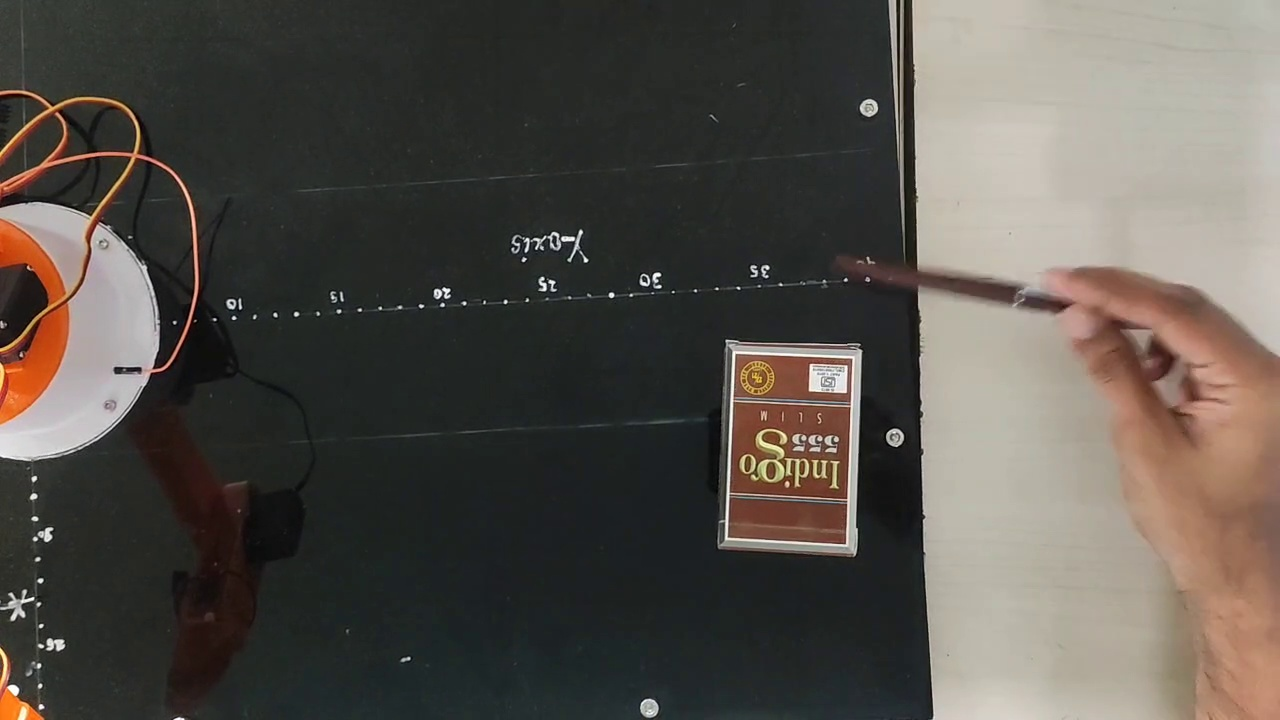BEX: (727, 349, 851, 542)
